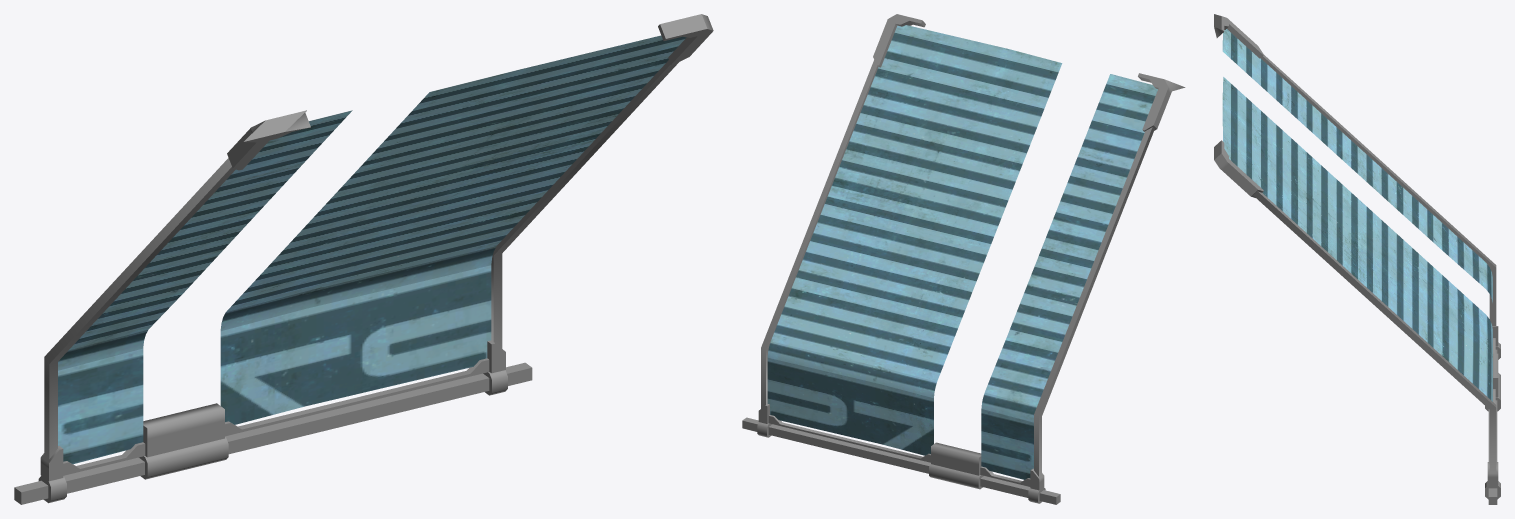
File: Neon_GenSign_03.FBX
3 renders of one model, left to right at view 1: azimuth 30°, elevation 25°; view 2: azimuth 150°, elevation 25°; view 3: azimuth 270°, elevation 25°, orthographic. The views are drawn at different scales.
Parts seen in each view (by area): view 1: Neon_GenSign_03; view 2: Neon_GenSign_03; view 3: Neon_GenSign_03.
Boxes of the visible parts, left/top/right/bottom form: Neon_GenSign_03: left=14, top=14, right=713, bottom=504; Neon_GenSign_03: left=742, top=14, right=1185, bottom=504; Neon_GenSign_03: left=1214, top=14, right=1500, bottom=504.
Size of the model in its own units: 1.8 by 1.79 by 1.36.
